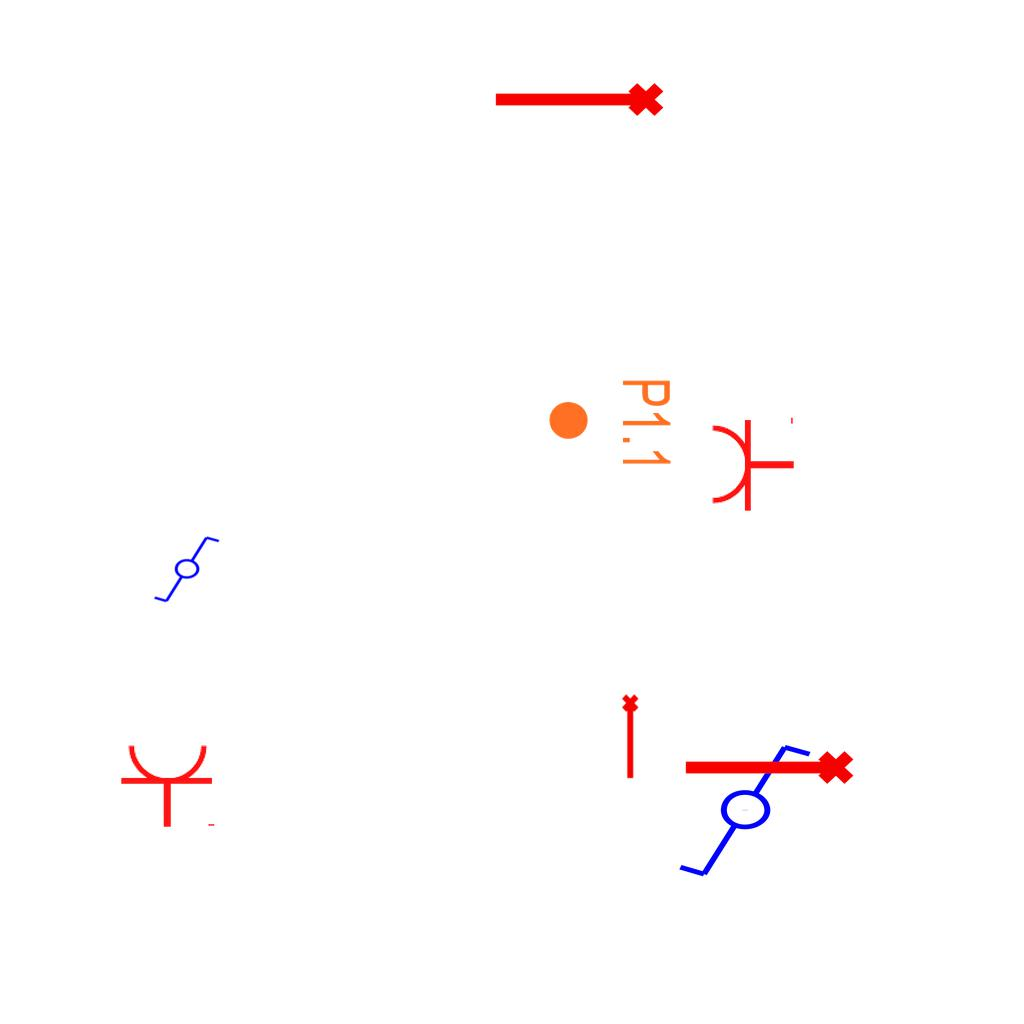ASR_Ansaugoeffnung: (490, 79, 666, 125), (680, 747, 856, 793), (620, 693, 643, 781)
Downlight_LED_Einbauleuchten_Flur: (546, 377, 674, 470)
Schukosteckdose_einfach: (709, 413, 796, 513), (119, 742, 219, 829)
Wechselschalter: (675, 740, 832, 884), (152, 534, 230, 606)
